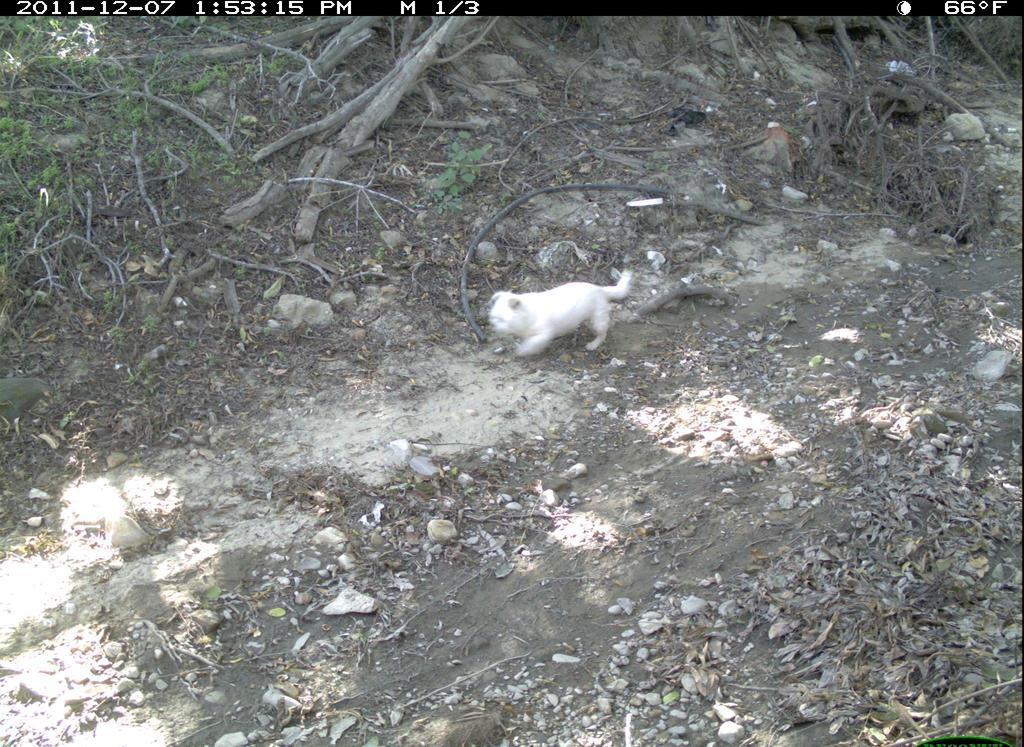dog: (468, 251, 660, 377)
